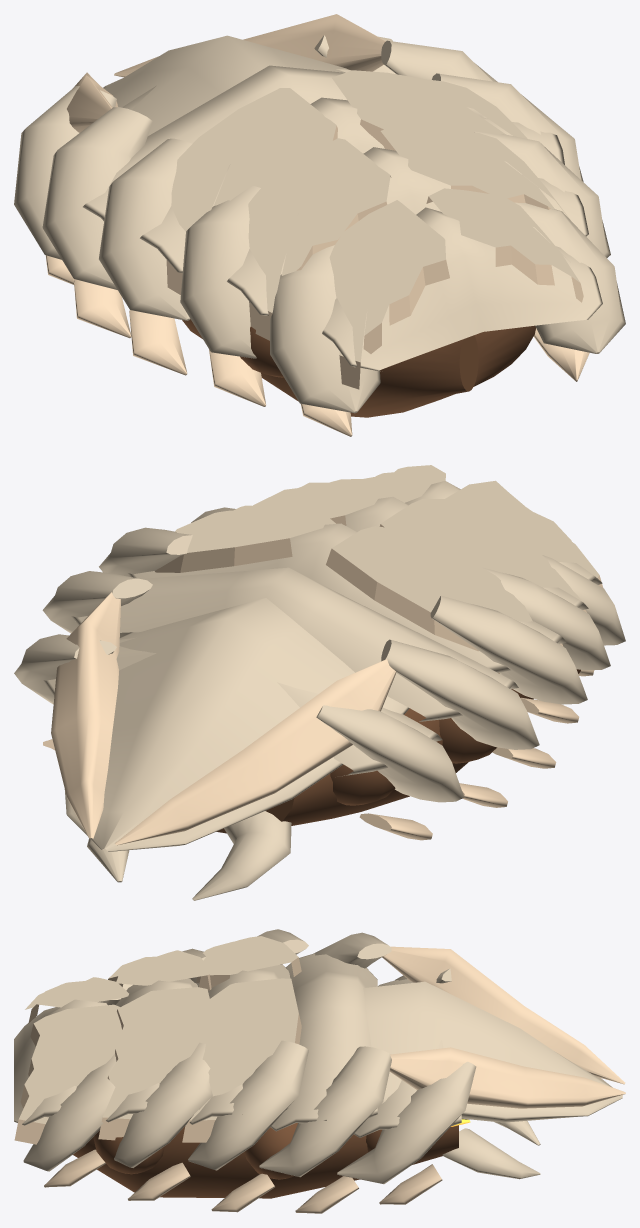
The model's file is ram_shell.glb.
3 views of the same model, one above another, from view 1: azimuth 30°, elevation 25°; view 2: azimuth 150°, elevation 25°; view 3: azimuth 270°, elevation 25° (orthographic). The views are drawn at different scales.
Parts seen in each view (by area): view 1: ram_shell; view 2: ram_shell; view 3: ram_shell.
Boxes of the visible parts, x1,y1,x2,y2 form: ram_shell: [14, 14, 625, 436]; ram_shell: [14, 465, 625, 900]; ram_shell: [14, 929, 625, 1213].
Size of the model in its own units: 1.9 by 1.02 by 2.6.
